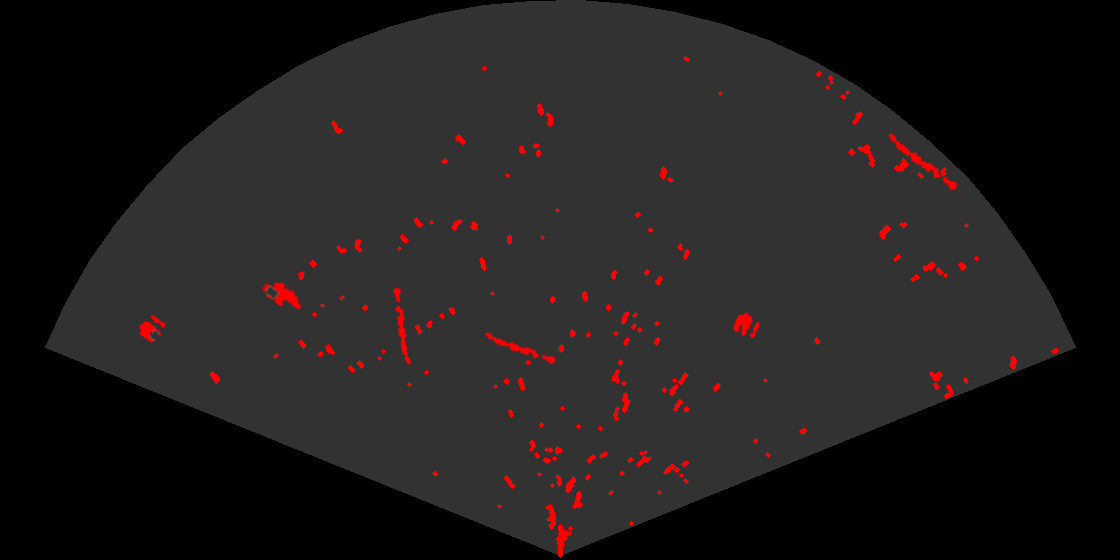AUV: (261, 280, 303, 311)
ball: (137, 314, 167, 344), (731, 311, 761, 340)
chain: (887, 131, 963, 196), (483, 331, 558, 366), (391, 286, 412, 367)
